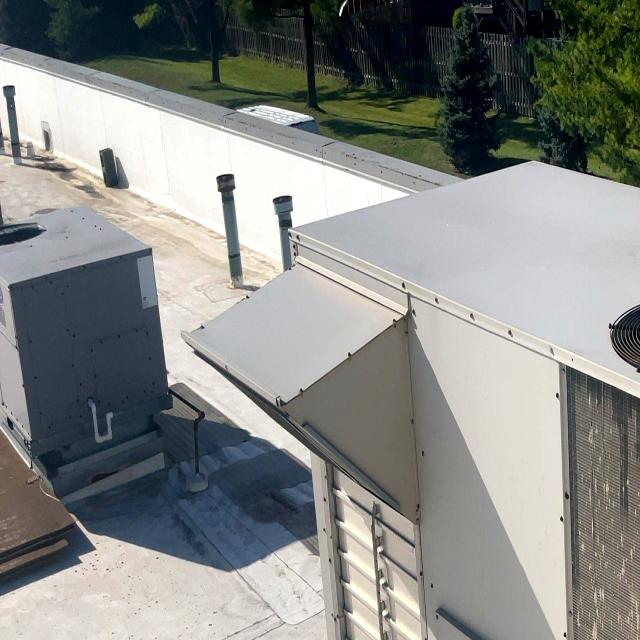GRAVITY-VENT: (214, 162, 243, 289), (270, 178, 298, 275), (2, 82, 28, 156)
RTU: (181, 156, 640, 640)
SPLIT-SYSTEM: (0, 193, 190, 487)
